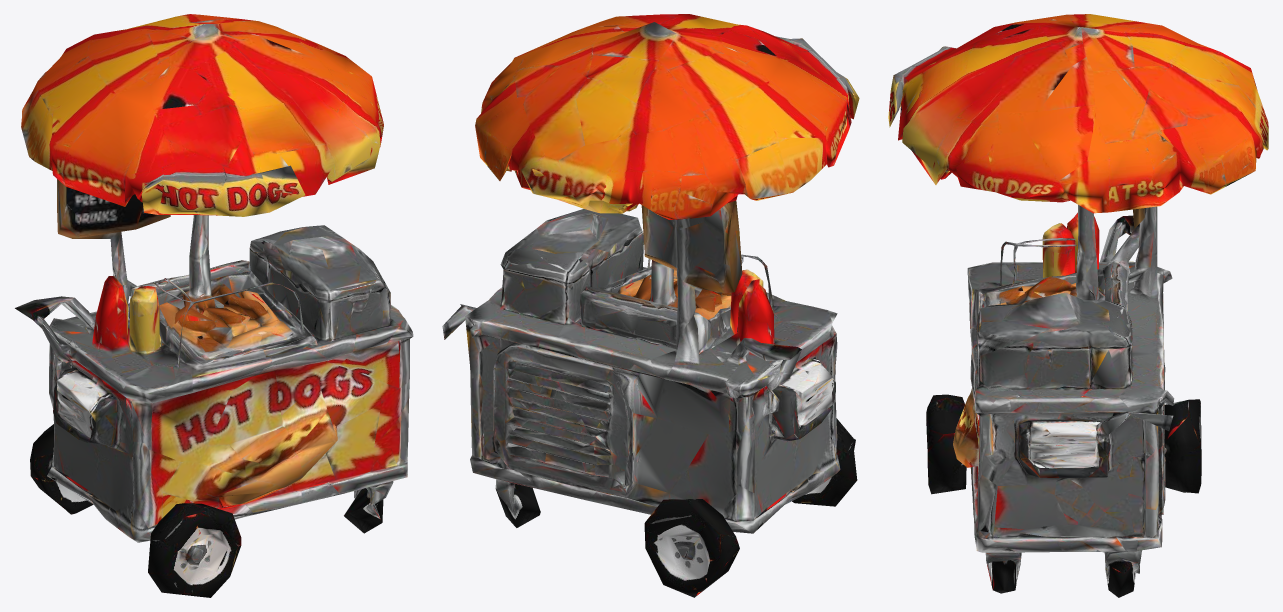
File: hot-dog-cart.glb
3 renders of one model, left to right at view 1: azimuth 30°, elevation 25°; view 2: azimuth 150°, elevation 25°; view 3: azimuth 270°, elevation 25°, orthographic.
Bounding box in the file's own units: 1.29 × 1.87 × 1.26.
Materials: 1 (1 with a texture image).
